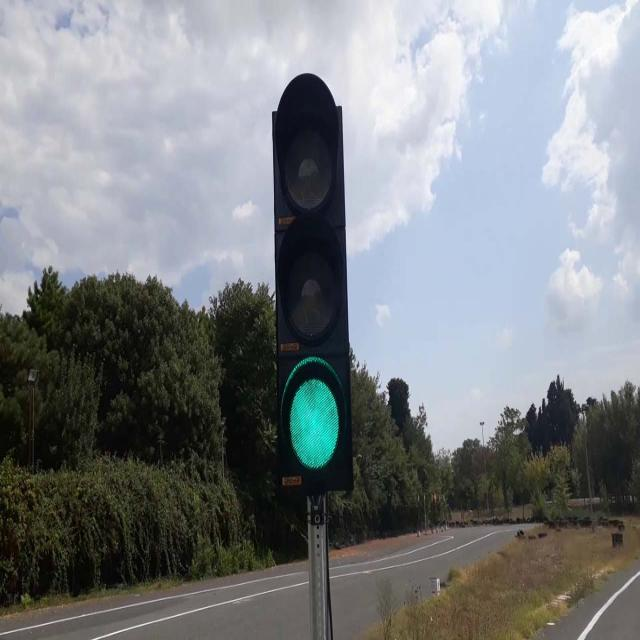yesil: (273, 68, 354, 487)
